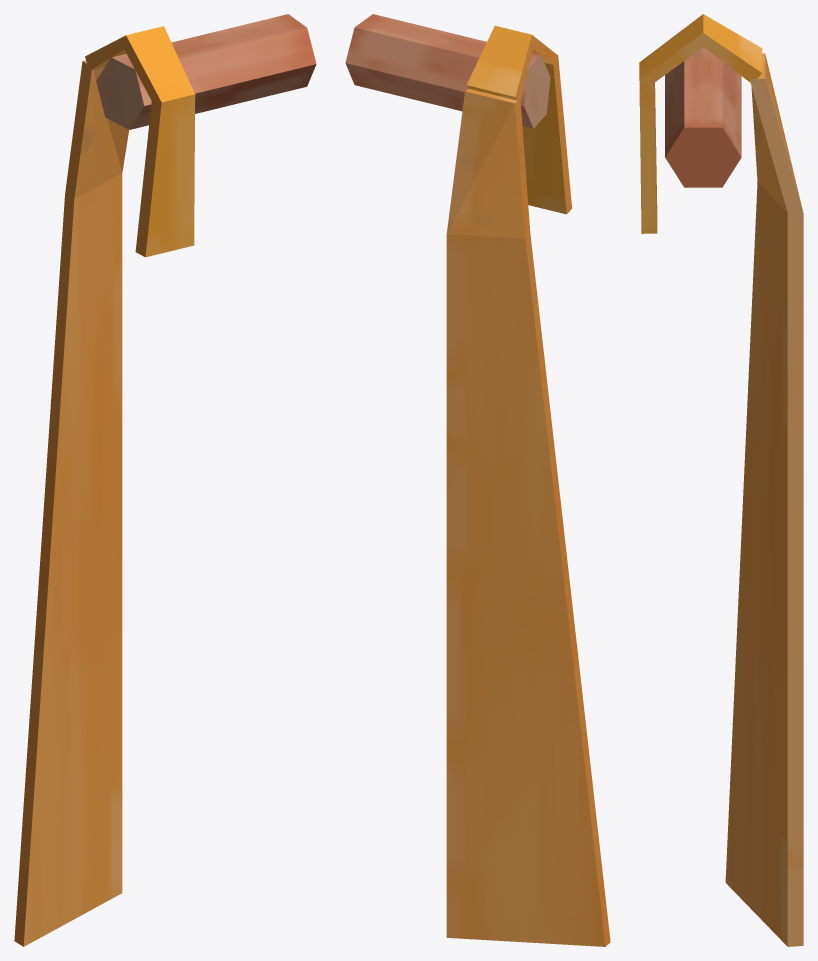
Rendered from rack_saffron_s01.fbx.
The picture shows the model from 3 angles, left to right: view 1: azimuth 30°, elevation 25°; view 2: azimuth 150°, elevation 25°; view 3: azimuth 270°, elevation 25°; orthographic projection. The views are drawn at different scales.
Visible parts, largest first — view 1: rack_saffron_s01; view 2: rack_saffron_s01; view 3: rack_saffron_s01.
Boxes of the visible parts, x1,y1,x2,y2 form: rack_saffron_s01: (14, 14, 316, 946); rack_saffron_s01: (345, 14, 610, 946); rack_saffron_s01: (639, 14, 803, 946).
Bounding box in the file's own units: 1.39 × 4.48 × 0.7289.
